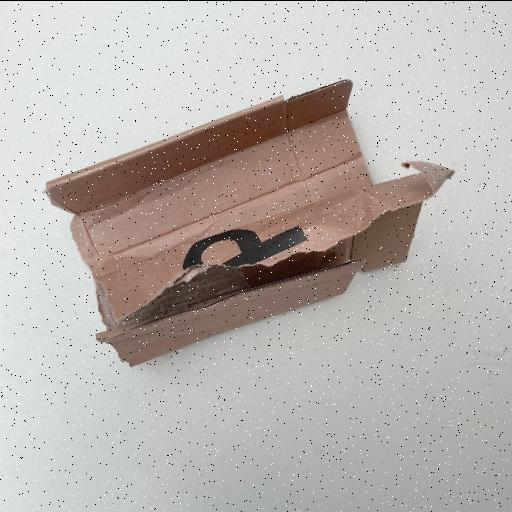Cardboard: (42, 76, 454, 370)
